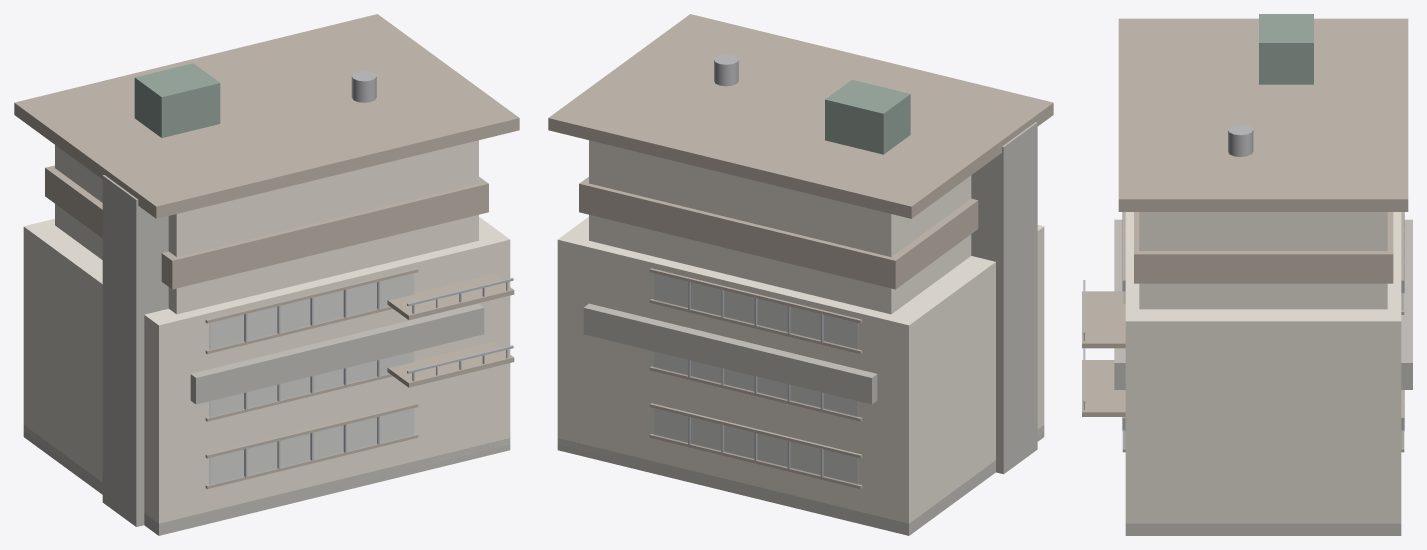
File: residential-building.glb
The picture shows the model from 3 angles, left to right: view 1: azimuth 30°, elevation 25°; view 2: azimuth 150°, elevation 25°; view 3: azimuth 270°, elevation 25°; orthographic projection.
Visible parts, largest first — view 1: render, stone, concrete, glass, paintMuted, metal; view 2: render, stone, concrete, glass, paintMuted, metal; view 3: render, stone, concrete, paintMuted, metal.
Boxes of the visible parts, <box> form: render: <box>23,140,510,523</box>; stone: <box>14,14,519,489</box>; concrete: <box>23,175,510,535</box>; glass: <box>209,273,413,484</box>; paintMuted: <box>134,63,220,137</box>; metal: <box>244,71,513,477</box>; render: <box>557,140,1044,523</box>; stone: <box>548,14,1053,489</box>; concrete: <box>557,122,1044,535</box>; glass: <box>654,273,858,484</box>; paintMuted: <box>825,79,910,154</box>; metal: <box>688,54,823,477</box>; render: <box>1125,212,1401,523</box>; stone: <box>1082,18,1408,452</box>; concrete: <box>1114,219,1412,535</box>; paintMuted: <box>1259,14,1313,84</box>; metal: <box>1083,124,1404,430</box>.
Bounding box in the file's own units: 18.7 × 18.3 × 14.4.
